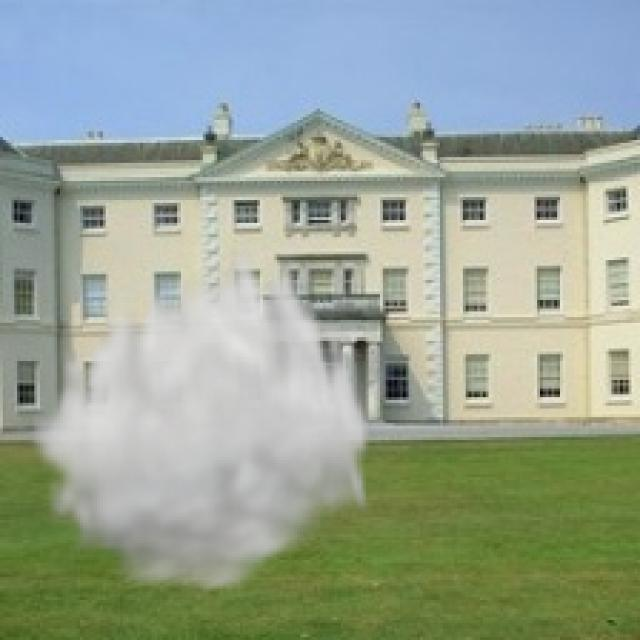Smoke: (26, 237, 374, 600)
